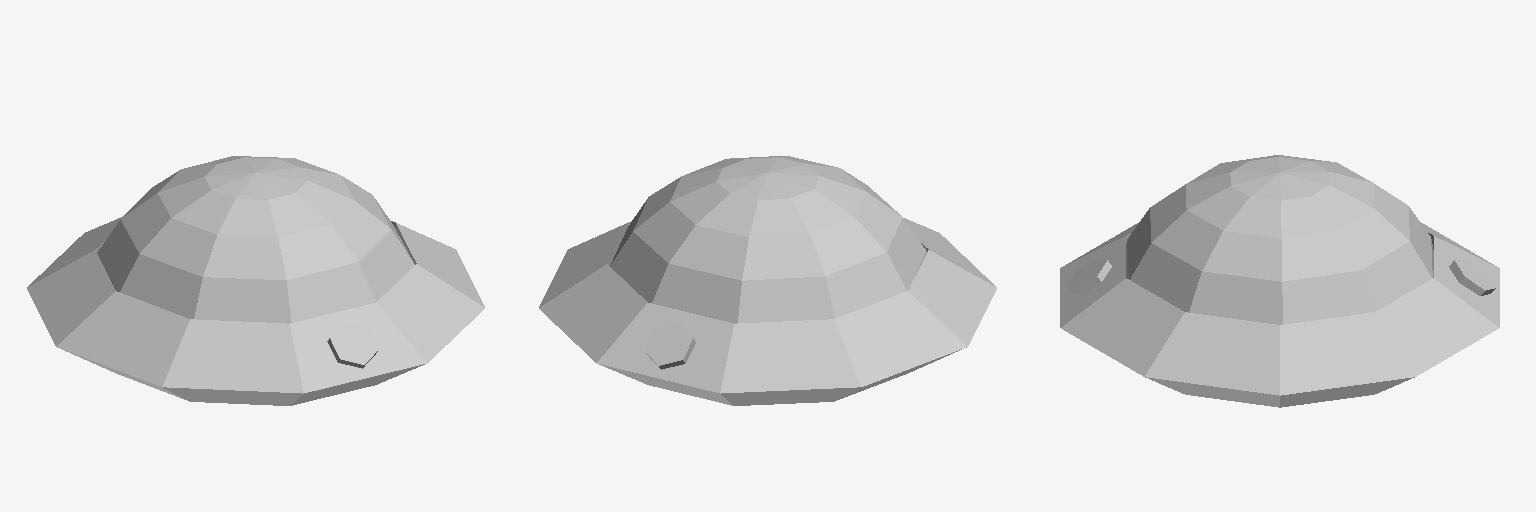
Rendered from ufo2.obj.
The picture shows the model from 3 angles: view 1: azimuth 30°, elevation 25°; view 2: azimuth 150°, elevation 25°; view 3: azimuth 270°, elevation 25°; orthographic projection.
Parts seen in each view (by area): view 1: Sphere, Torus.002, Cylinder.001; view 2: Sphere, Torus.002, Cylinder.002; view 3: Sphere, Torus.002, Cylinder.002, Cylinder.001.
Boxes of the visible parts, box(x1,y1,x2,y2) form: Sphere: box(97, 156, 414, 323); Torus.002: box(27, 217, 484, 405); Cylinder.001: box(327, 322, 378, 368); Sphere: box(610, 156, 926, 323); Torus.002: box(539, 218, 996, 405); Cylinder.002: box(644, 323, 695, 369); Sphere: box(1126, 155, 1433, 324); Torus.002: box(1060, 223, 1499, 407); Cylinder.002: box(1449, 258, 1495, 295); Cylinder.001: box(1066, 258, 1111, 295).
Size of the model in its own units: 2.5 by 0.9968 by 2.38.